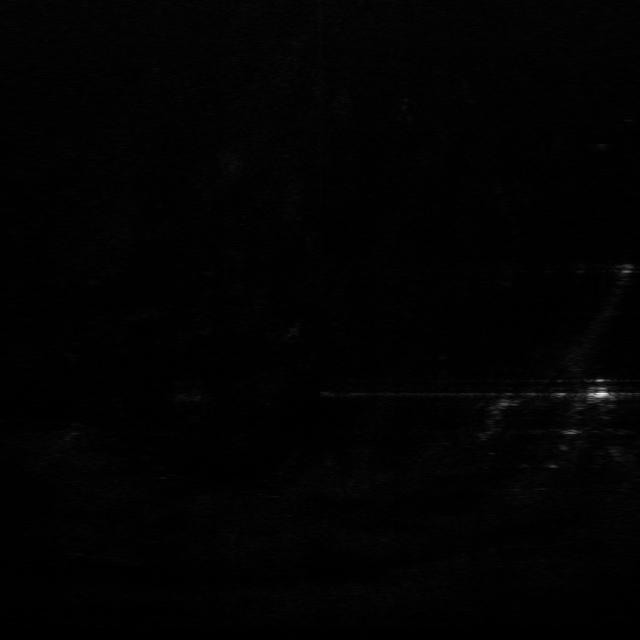rov: (586, 376, 616, 404)
